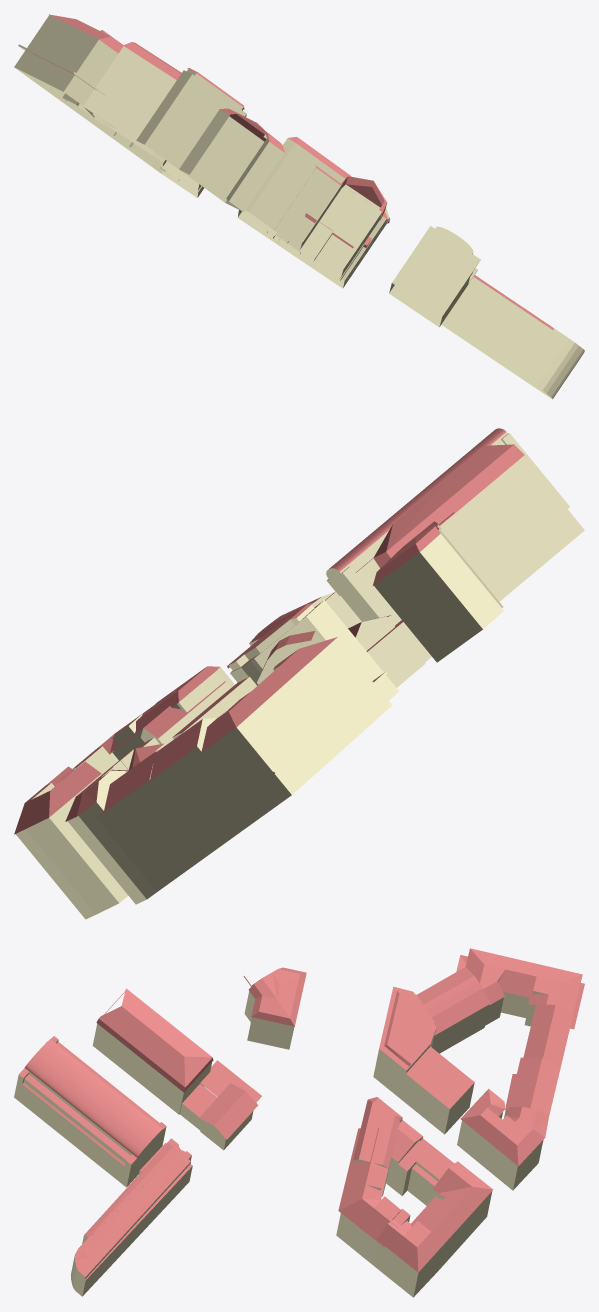
File: tile_030.glb
3 renders of one model, top to bottom at view 1: azimuth 30°, elevation 25°; view 2: azimuth 150°, elevation 25°; view 3: azimuth 270°, elevation 25°, orthographic. The views are drawn at different scales.
Parts seen in each view (by area): view 1: Batched_Building_ID_7D8DAF73-7D56-469B-8E6C-5A1F50C9085C, Batched_Building_ID_0F8DDB43-2EA6-4D93-8FAF-A16E5C185C4B; view 2: Batched_Building_ID_7D8DAF73-7D56-469B-8E6C-5A1F50C9085C, Batched_Building_ID_0F8DDB43-2EA6-4D93-8FAF-A16E5C185C4B; view 3: Batched_Building_ID_0F8DDB43-2EA6-4D93-8FAF-A16E5C185C4B, Batched_Building_ID_7D8DAF73-7D56-469B-8E6C-5A1F50C9085C.
Boxes of the visible parts, x1,y1,x2,y2 form: Batched_Building_ID_7D8DAF73-7D56-469B-8E6C-5A1F50C9085C: (14,15,584,399); Batched_Building_ID_0F8DDB43-2EA6-4D93-8FAF-A16E5C185C4B: (25,14,553,329); Batched_Building_ID_7D8DAF73-7D56-469B-8E6C-5A1F50C9085C: (16,432,584,919); Batched_Building_ID_0F8DDB43-2EA6-4D93-8FAF-A16E5C185C4B: (14,428,524,834); Batched_Building_ID_0F8DDB43-2EA6-4D93-8FAF-A16E5C185C4B: (19,948,584,1280); Batched_Building_ID_7D8DAF73-7D56-469B-8E6C-5A1F50C9085C: (14,972,574,1297).
Bounding box in the file's own units: 120 × 102 × 208.
